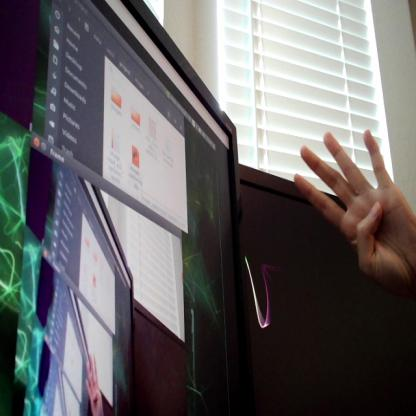four: (292, 124, 416, 289)
